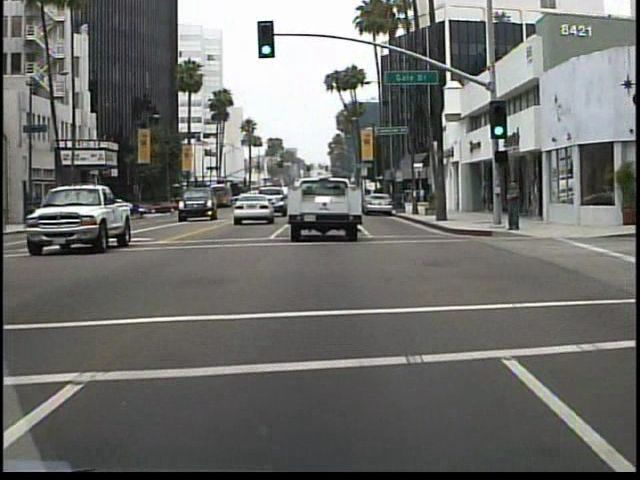person: (501, 176, 523, 237)
